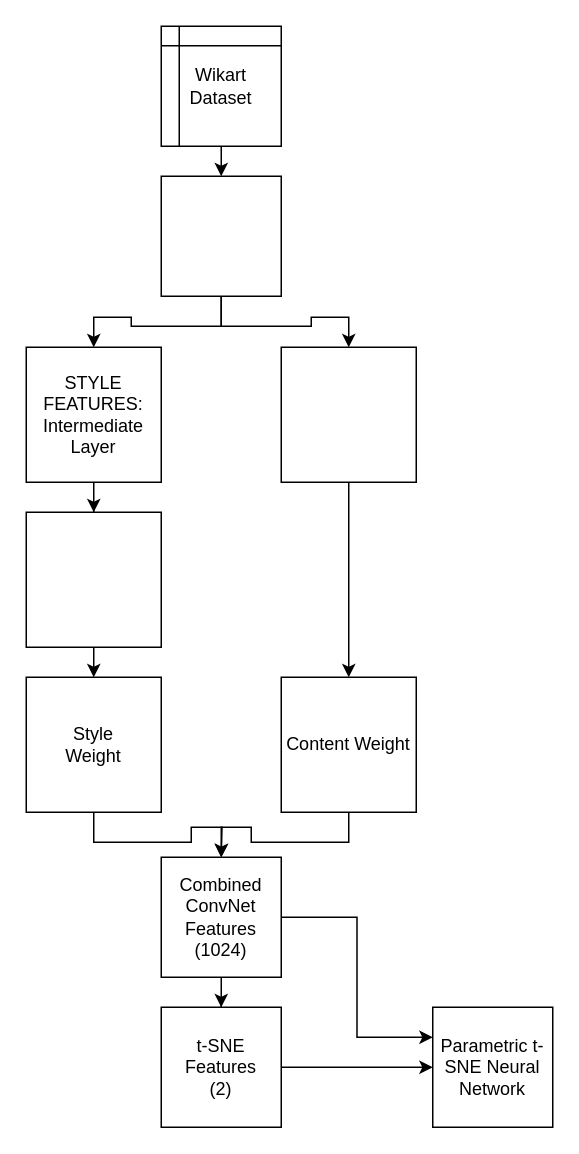
This 579x1154 diagram has some shape labels left out. The box of each missing label's shape, as (x1, y1, x2, y2) in pixels:
CONTENT FEATURES: Last Layer (512): (280, 346, 416, 482)
Gramm Matrix & PCA (512 x 1): (25, 511, 161, 647)
VGG19 ConvNet: (160, 175, 281, 296)
